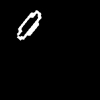chain: (17, 11, 40, 39)
